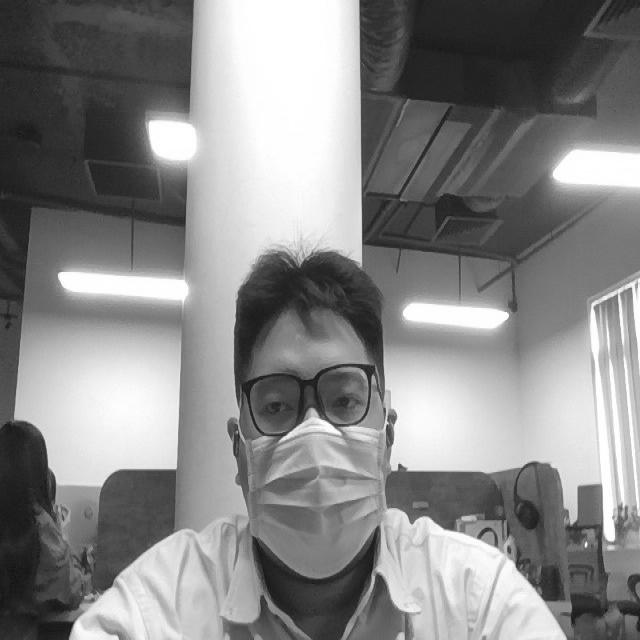fake: (247, 421, 390, 578)
real: (209, 213, 415, 586), (243, 367, 386, 428)
